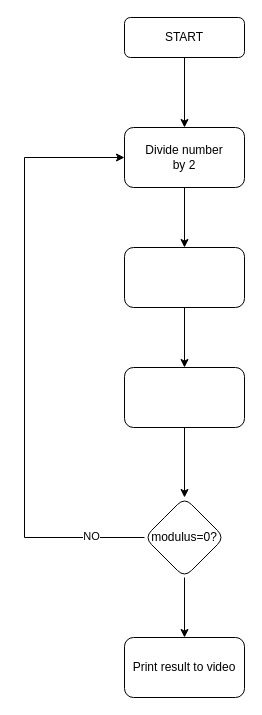
Some shapes in this 262 by 715 pixel diagram are drawn without their labels. The shapes that lost their labels are listed below. From the top down, each one's box as (x1, y1, x2, y2) in pixels, then its label:
(124, 246, 244, 308): Take the reminder and store at the beginning of the result (left side)
(124, 366, 244, 428): Take the modulus and overwrite it to the start number
